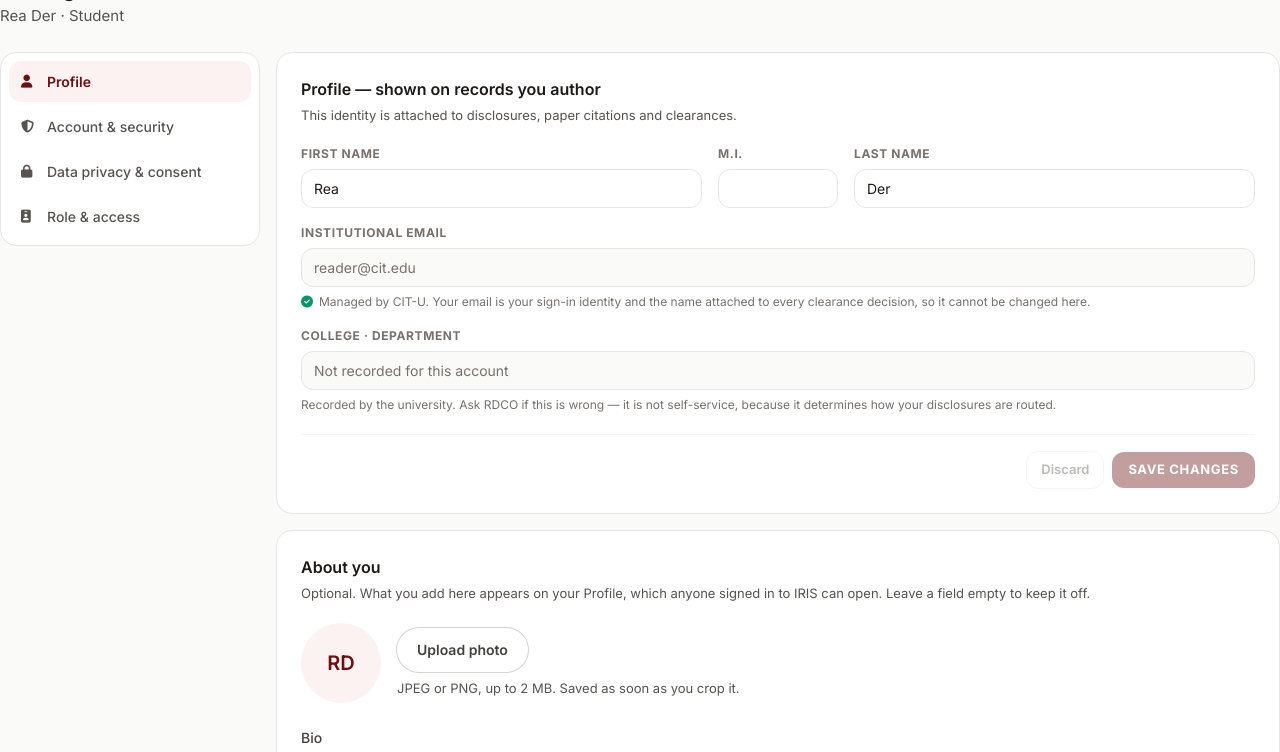
Test: distinguishes the current disclosure notice from historical account consent (IR-123)
Click the button "Data privacy & consent".
click(130, 172)  # box [9,151,251,192]
(page scrolled)
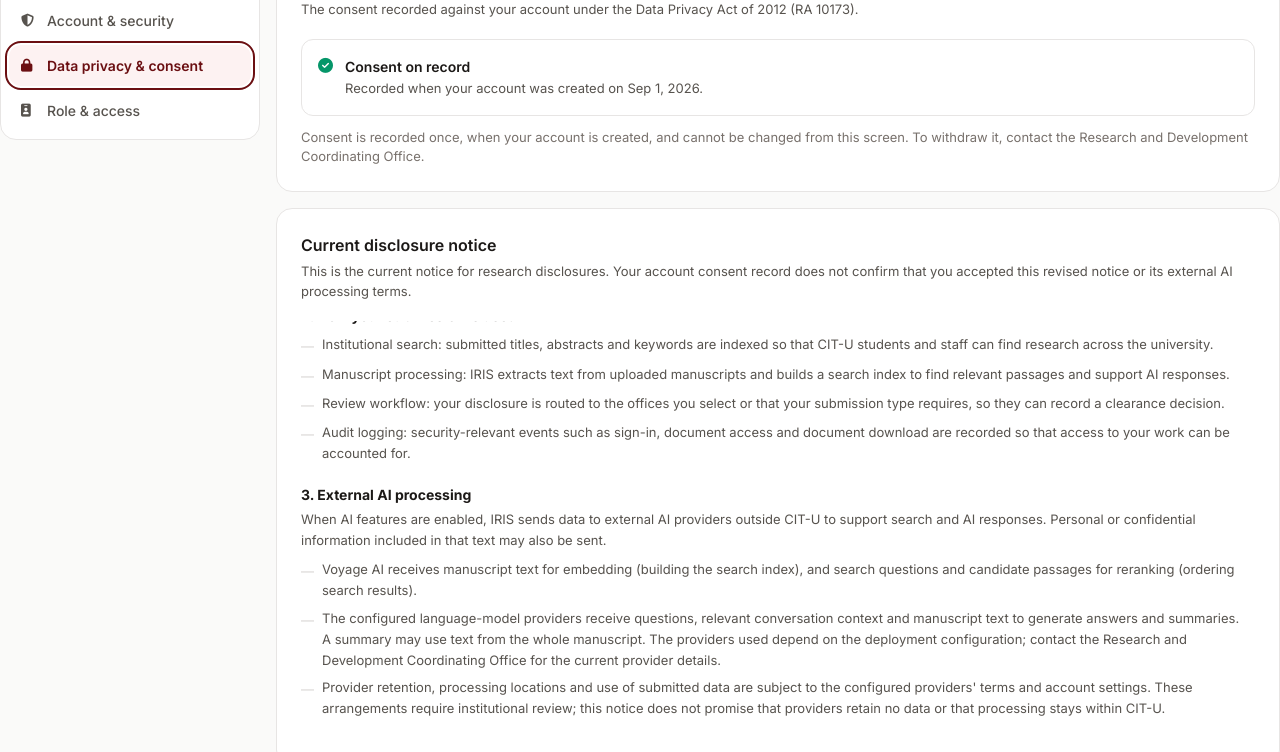
Result: the text "Consent on record" is shown at [345,58,470,75]
Result: the heading "Current disclosure notice" is shown at [301,234,496,254]
Result: the text "external AI providers outside CIT-U" is shown at [301,511,1196,548]
